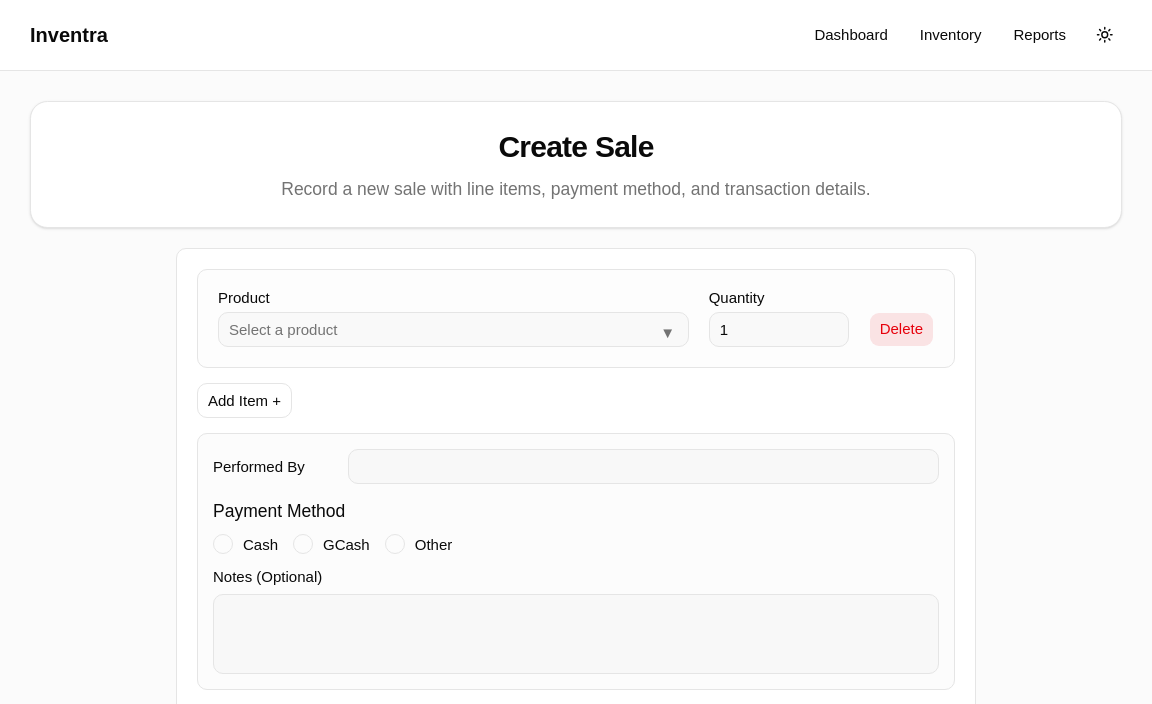
Test case: Sales Create Page Tests › clicking delete removes a sale row
What coordinates should you click on to do the following:
click the button "Add Item +"
I would click on:
 (244, 401)
Its box is [197,384,292,418].
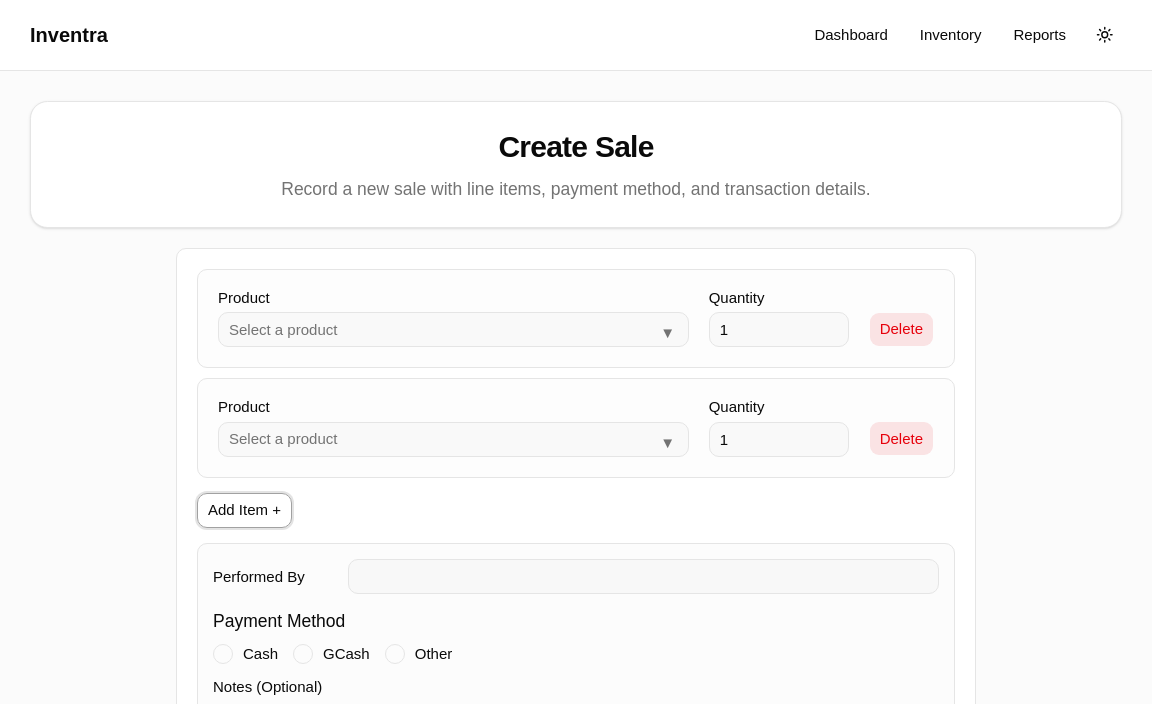
Result: the number of elements named "sale item" is 2 at [197,269,955,368]; [197,378,955,478]
What coordinates should you click on to do the following:
click the 2nd button "Delete"
I would click on:
 (901, 439)
Its box is [869,422,934,456].
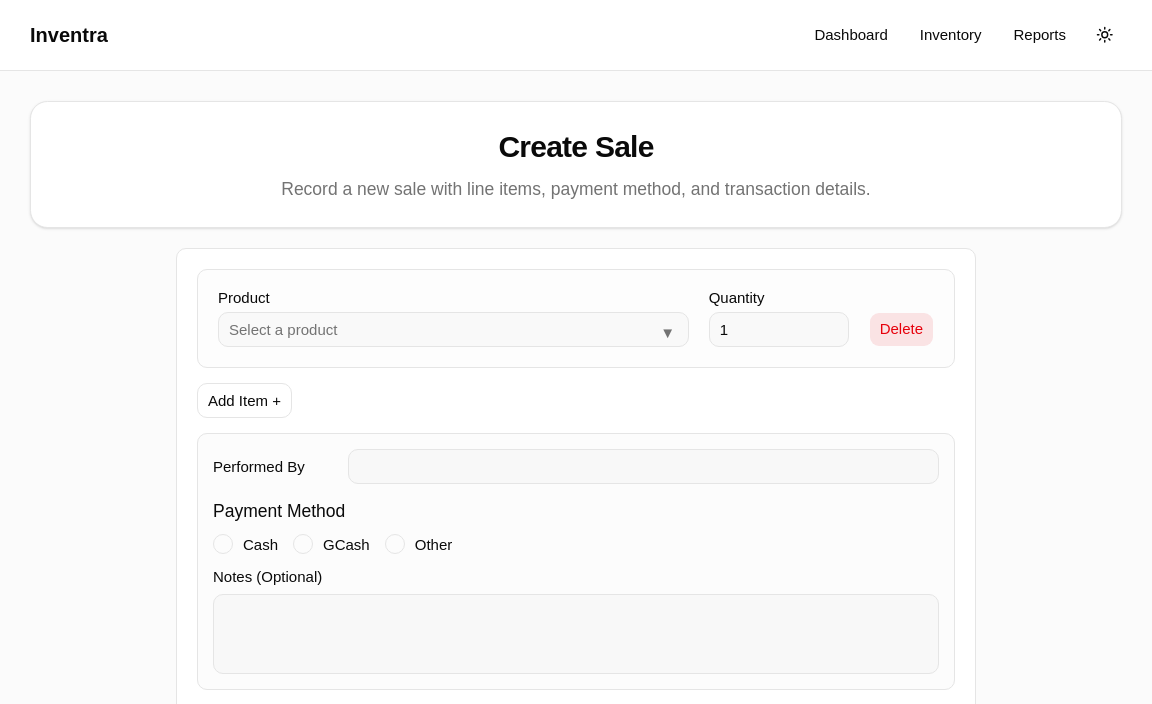
Result: the number of elements named "sale item" is 1 at [197,269,955,368]
